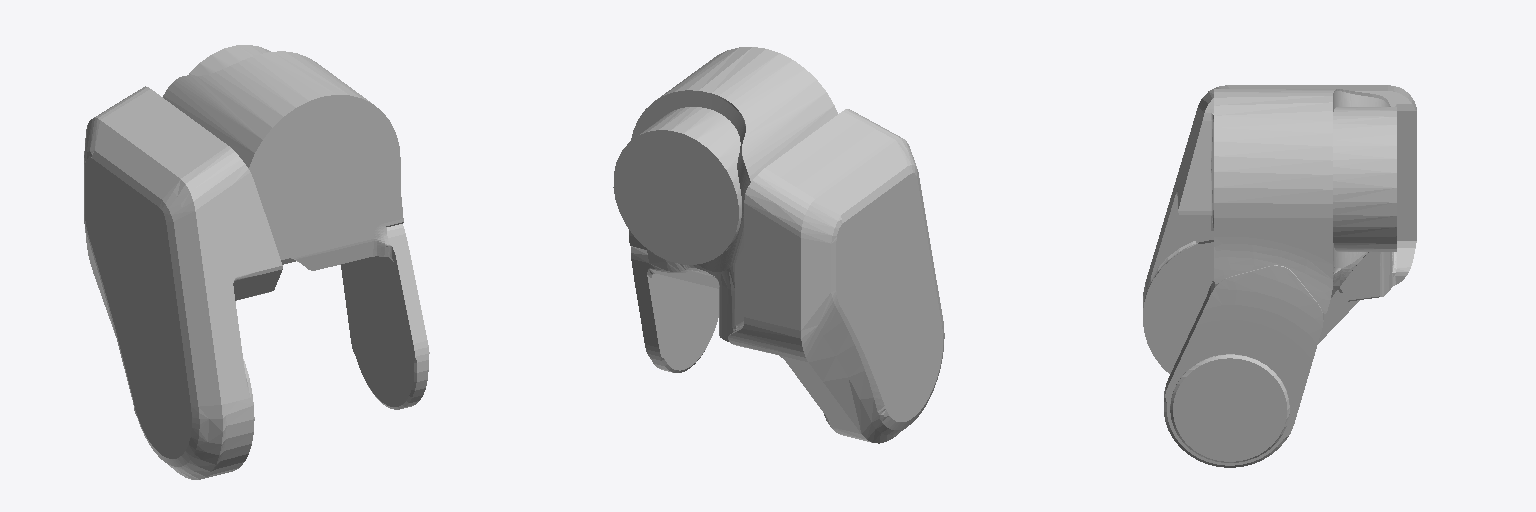
Rendered from left_hip_roll.obj.
The picture shows the model from 3 angles: view 1: azimuth 30°, elevation 25°; view 2: azimuth 150°, elevation 25°; view 3: azimuth 270°, elevation 25°; orthographic projection.
Parts seen in each view (by area): view 1: LeftHipRollLink; view 2: LeftHipRollLink; view 3: LeftHipRollLink.
Part boxes in pixels (x1,y1,x2,y2): LeftHipRollLink: (84, 45, 429, 479); LeftHipRollLink: (613, 47, 944, 443); LeftHipRollLink: (1143, 85, 1416, 467).
Bounding box in the file's own units: 0.1328 × 0.1855 × 0.132.